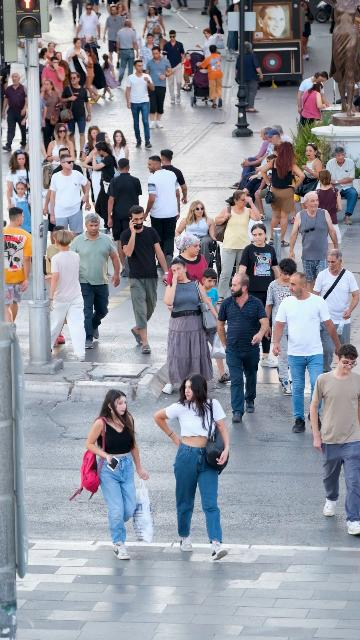person: (153, 373, 230, 562), (271, 272, 342, 433), (84, 389, 150, 561), (309, 343, 360, 536), (217, 273, 271, 423), (161, 258, 217, 395), (120, 205, 169, 354), (70, 213, 121, 350), (312, 249, 360, 373), (215, 189, 263, 303), (288, 191, 339, 295), (48, 231, 87, 362), (263, 258, 300, 395), (261, 142, 306, 247), (104, 159, 143, 277), (226, 129, 281, 205), (143, 155, 181, 264), (43, 155, 92, 238), (238, 223, 282, 309), (166, 234, 208, 321), (3, 207, 33, 325), (202, 268, 231, 384), (82, 141, 118, 230), (50, 148, 84, 234), (175, 201, 218, 267), (229, 127, 273, 190), (125, 60, 155, 150), (325, 147, 359, 225), (7, 150, 47, 211), (146, 46, 173, 134), (315, 169, 343, 250), (1, 72, 28, 152), (235, 41, 263, 113), (161, 29, 185, 105), (196, 45, 223, 109), (300, 141, 325, 210), (255, 154, 279, 221), (297, 70, 329, 118), (116, 19, 139, 83), (46, 124, 76, 172), (300, 82, 330, 129), (142, 6, 167, 59), (41, 57, 66, 109), (68, 37, 89, 89), (12, 182, 32, 235), (139, 33, 161, 81), (75, 3, 100, 43), (108, 129, 129, 176), (100, 54, 121, 101), (207, 0, 225, 48), (83, 46, 98, 103), (80, 126, 101, 160), (58, 60, 75, 102), (78, 33, 101, 63), (181, 53, 193, 91), (38, 48, 49, 85), (50, 52, 62, 66)
